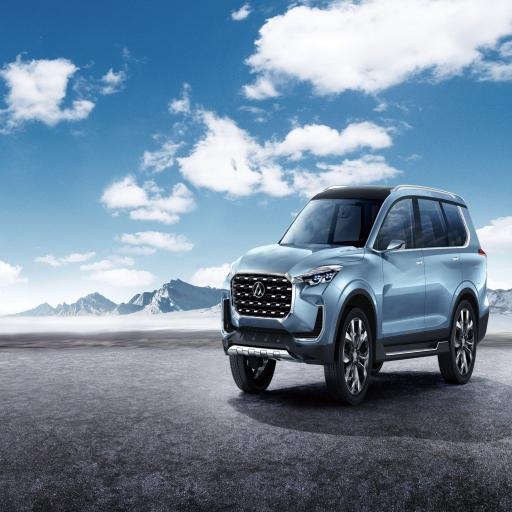suv: (221, 185, 489, 405)
